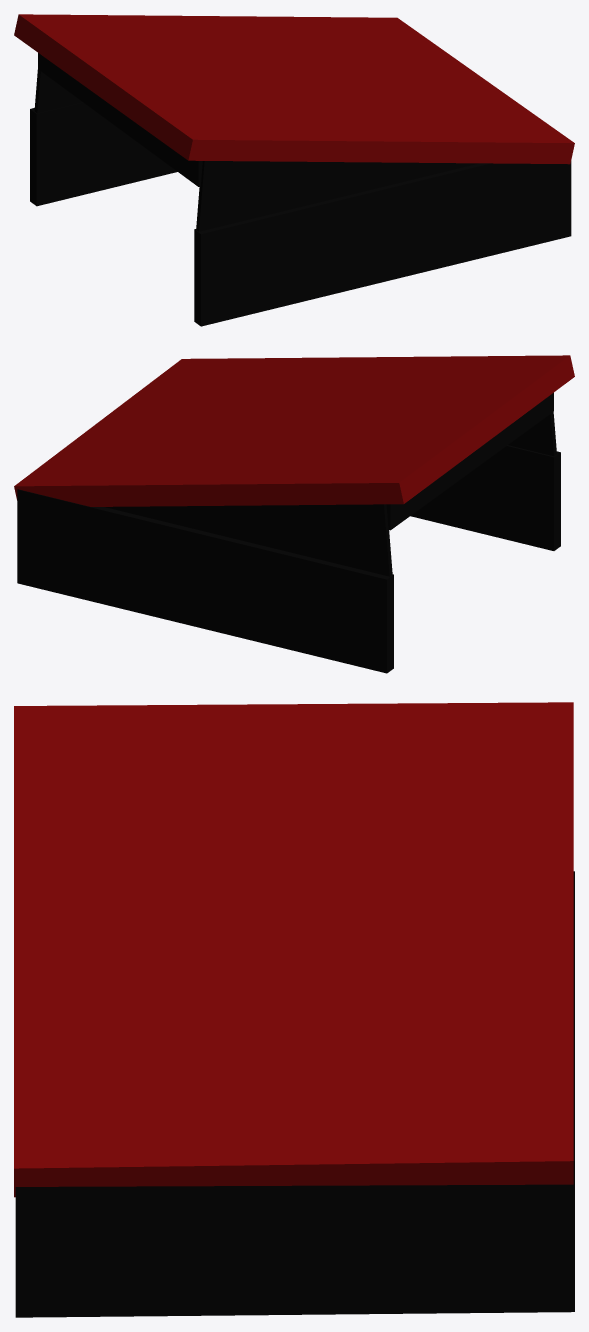
File: House2.FBX
3 renders of one model, top to bottom at view 1: azimuth 30°, elevation 25°; view 2: azimuth 150°, elevation 25°; view 3: azimuth 270°, elevation 25°, orthographic. The views are drawn at different scales.
Visible parts, largest first — view 1: House2; view 2: House2; view 3: House2.
Boxes of the visible parts, <box> form: House2: <box>14,14,574,326</box>; House2: <box>14,355,574,673</box>; House2: <box>14,702,574,1317</box>.
Size of the model in its own units: 1669 by 1274 by 778.
